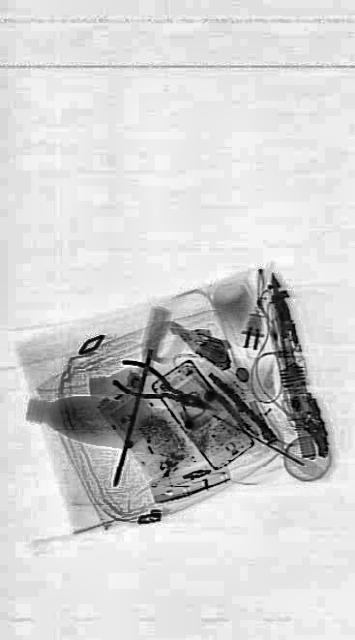Pliers: (112, 349, 216, 429)
